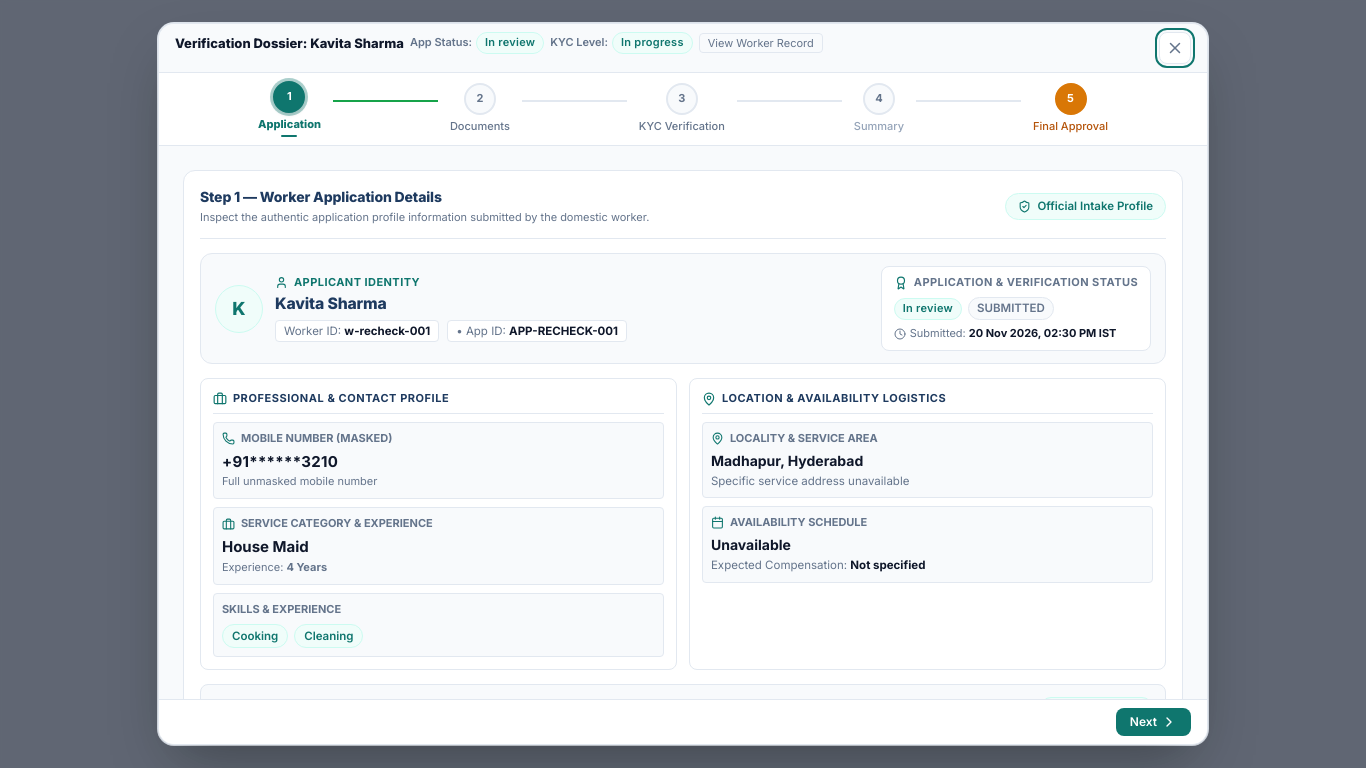
Test: Simplified KYC Verification Page & Document Re-verification › 1. Simplified KYC Verification Page (Step 3) › displays only check names with Approve and Reject buttons and removes audit history and metadata clutter
Click the element with test id "step-bubble-3": (682, 109) [639,83,725,135]
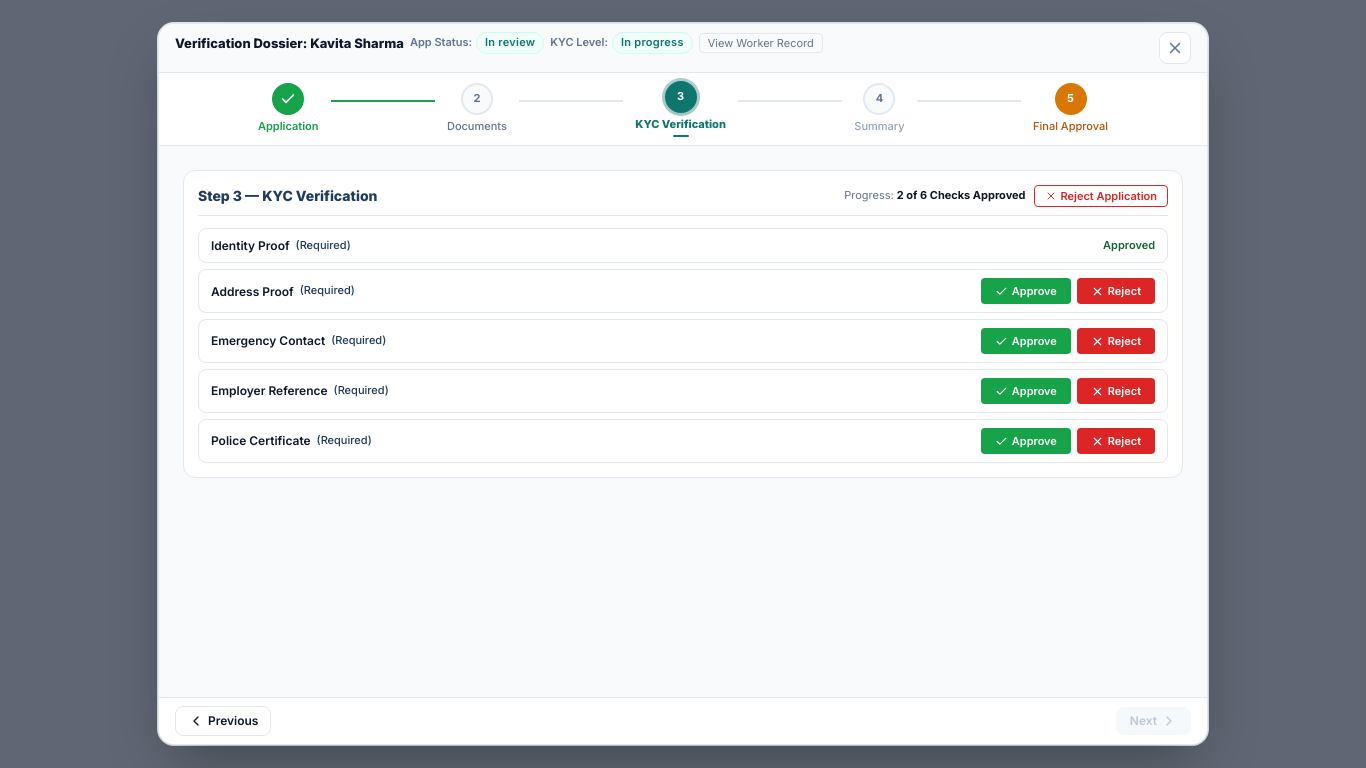
Expected: the element with test id "simplified-kyc-verification-page" is shown, [183,170,1183,478]
Expected: the heading "Identity Proof" is shown, [211,237,290,254]
Expected: the heading "Address Proof" is shown, [211,282,294,300]
